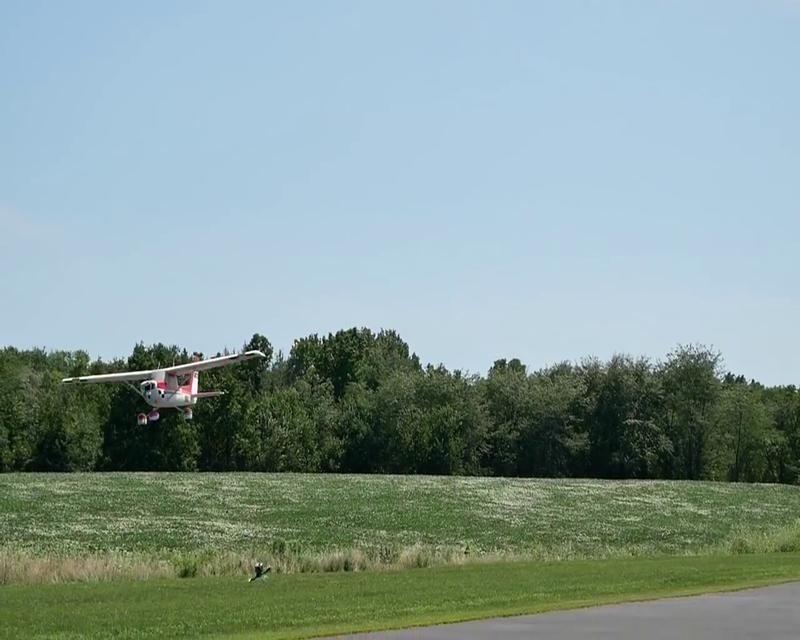UAV: (60, 347, 267, 426)
